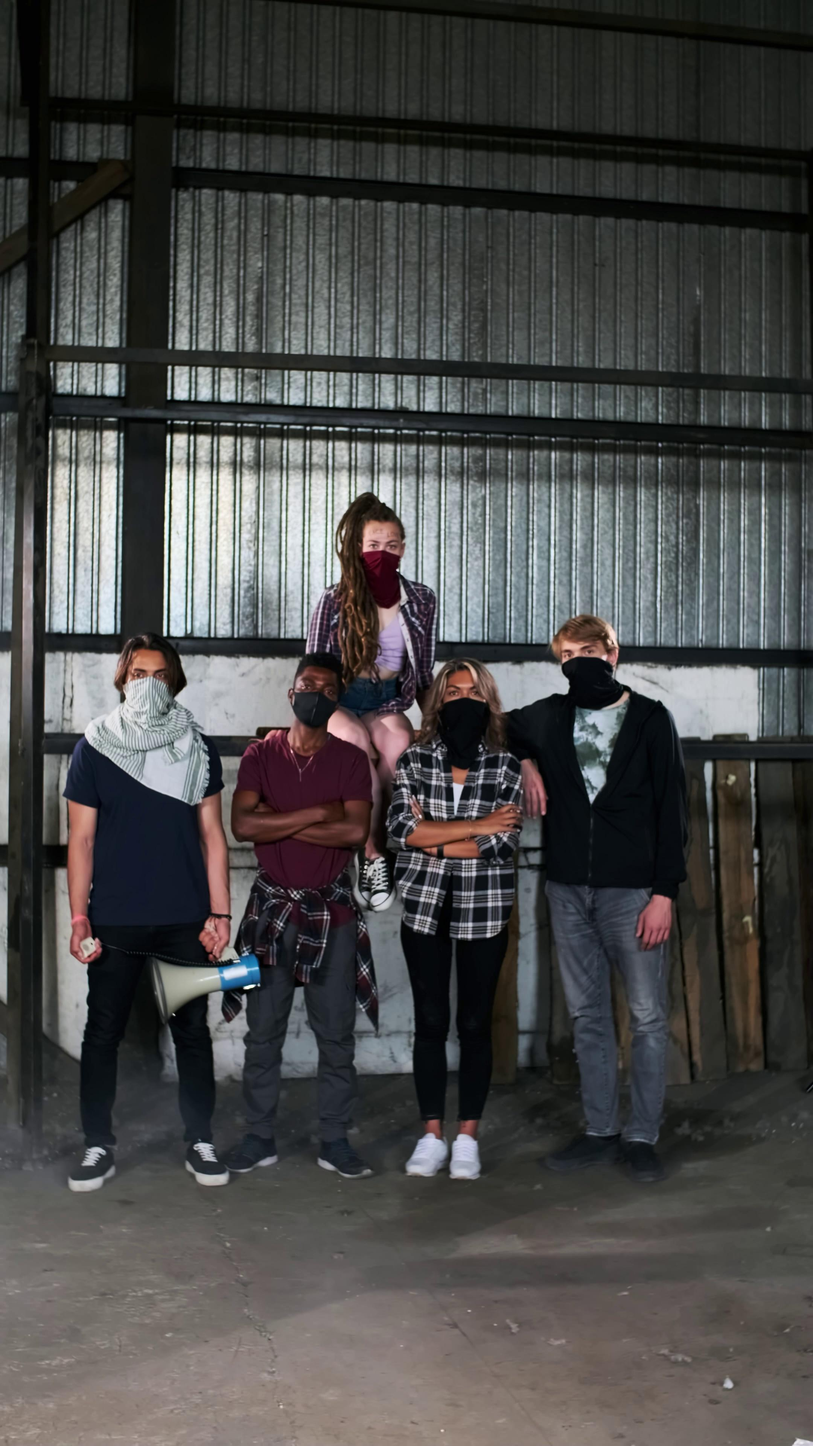mask: (436, 699, 490, 771), (562, 656, 620, 712), (121, 676, 179, 725), (360, 550, 402, 609), (290, 689, 337, 730)
person: (498, 613, 692, 1182), (63, 633, 232, 1192), (221, 652, 381, 1181), (387, 658, 527, 1184), (306, 492, 437, 912)
